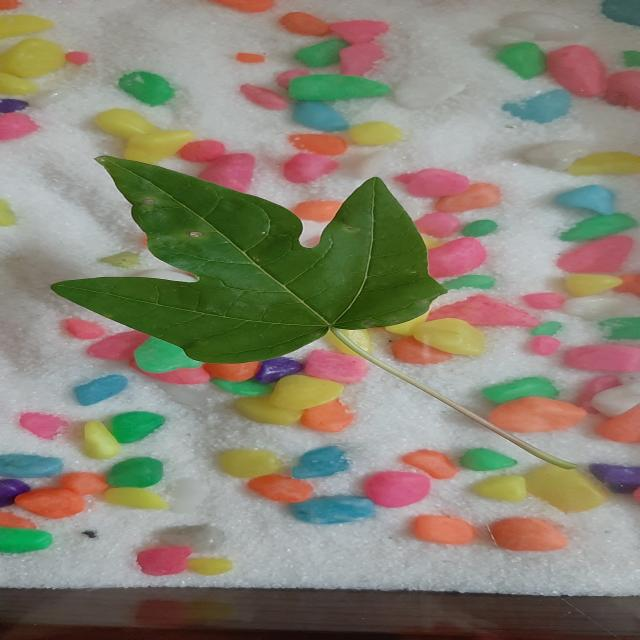papaya: (51, 156, 574, 469)
